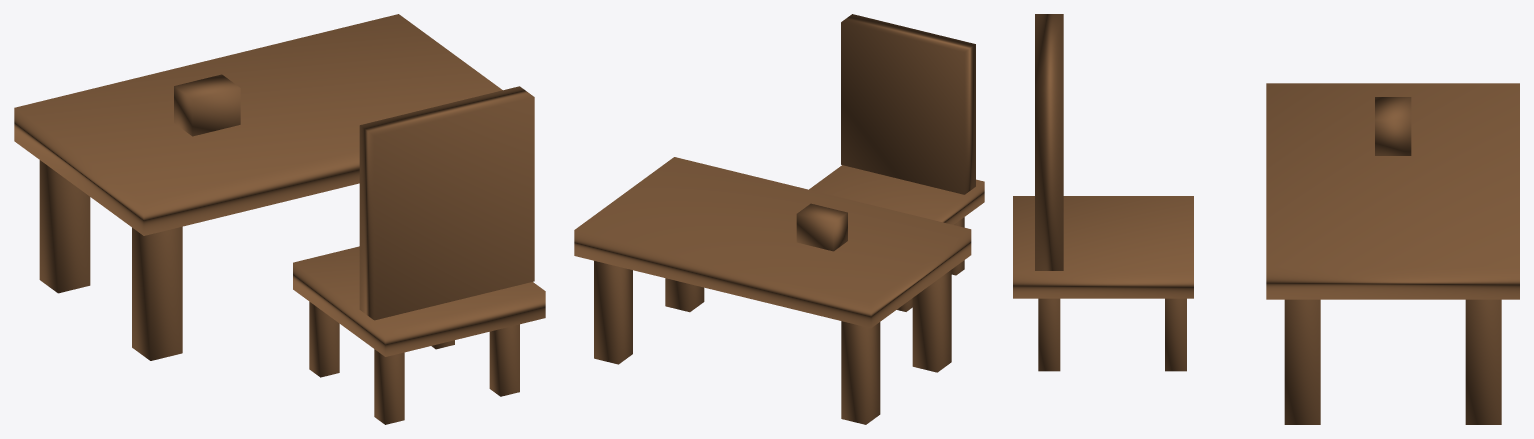
File: furniture.obj
The picture shows the model from 3 angles, left to right: view 1: azimuth 30°, elevation 25°; view 2: azimuth 150°, elevation 25°; view 3: azimuth 270°, elevation 25°; orthographic projection. The views are drawn at different scales.
Bounding box in the file's own units: 2.4 × 1.76 × 2.8.
